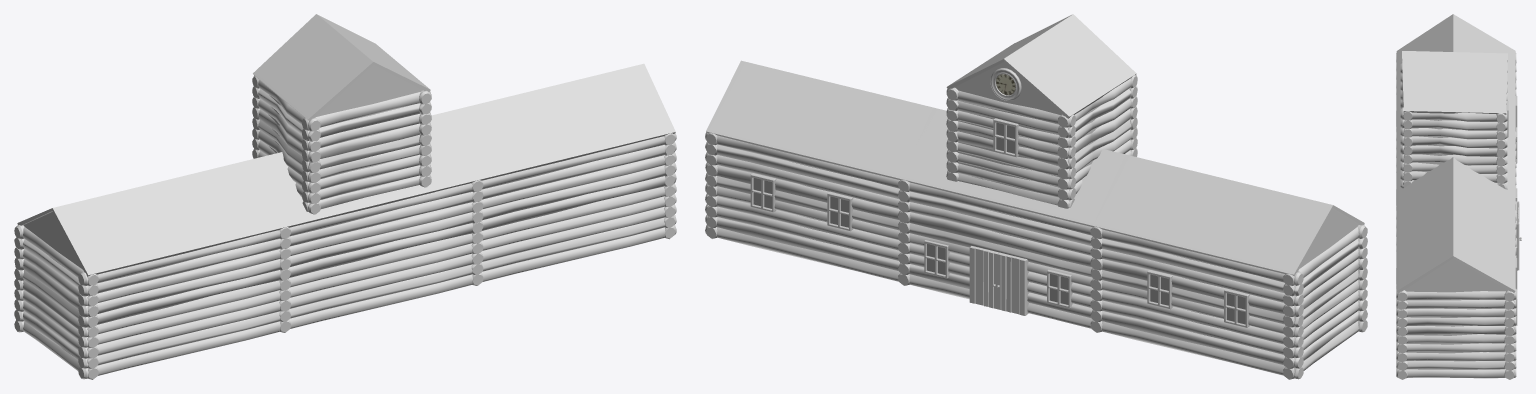
The model's file is town hall.fbx.
3 renders of one model, left to right at view 1: azimuth 30°, elevation 25°; view 2: azimuth 150°, elevation 25°; view 3: azimuth 270°, elevation 25°, orthographic. The views are drawn at different scales.
Parts seen in each view (by area): view 1: townhall; view 2: townhall; view 3: townhall.
Boxes of the visible parts, bbox=[...] form: townhall: bbox=[14, 14, 676, 379]; townhall: bbox=[705, 14, 1367, 379]; townhall: bbox=[1396, 14, 1521, 379].
Bounding box in the file's own units: 47.74 × 19.01 × 10.44.
